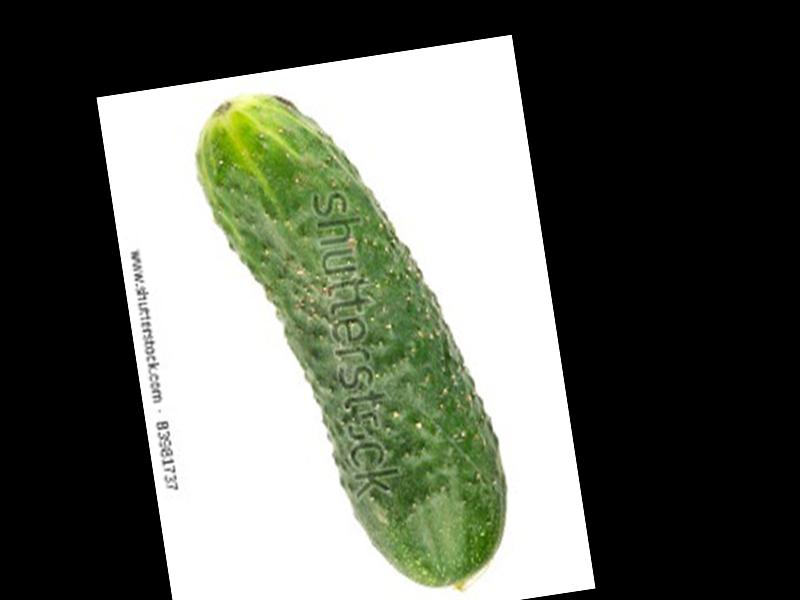Cucumber: (189, 67, 520, 600)
